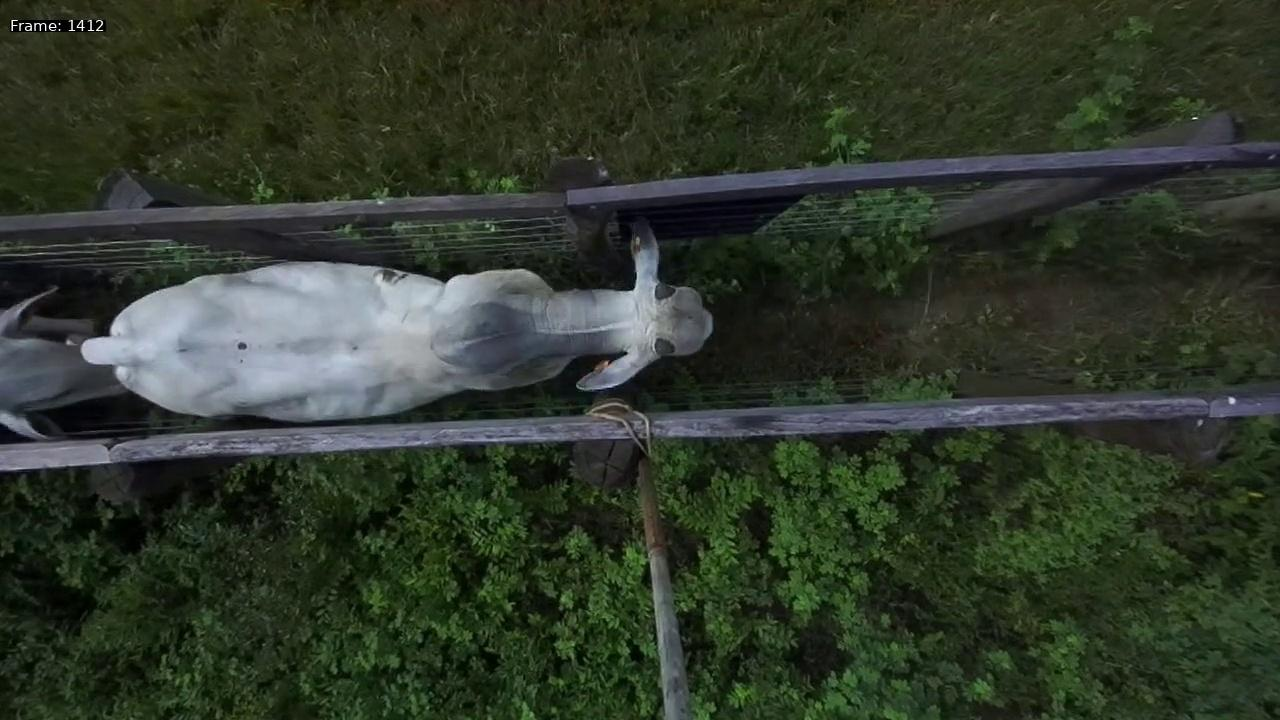cattle: (72, 204, 722, 432)
